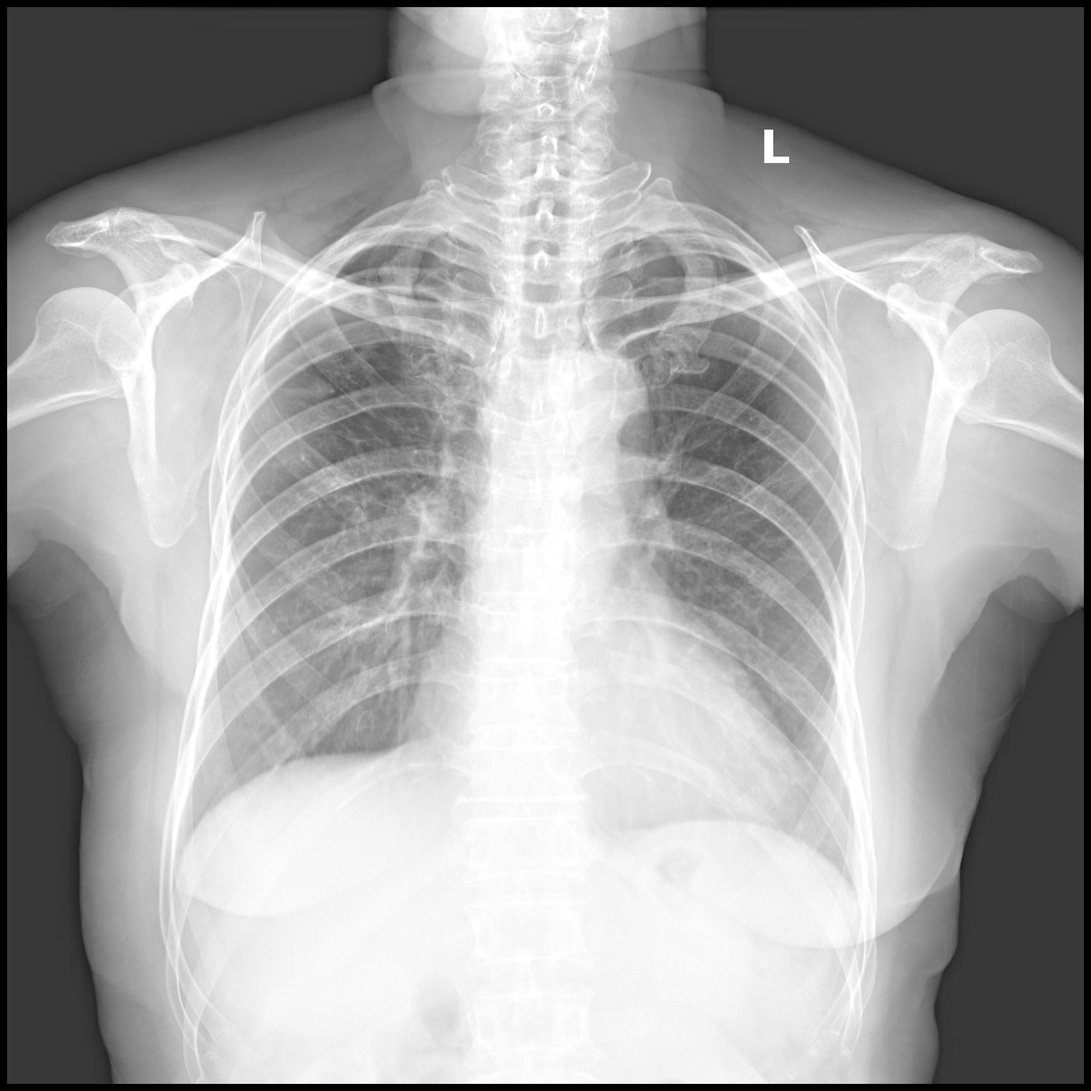Aortic enlargement: (548, 351, 657, 456)
Cardiomegaly: (406, 688, 799, 830)
Pulmonary fibrosis: (270, 382, 334, 397)
